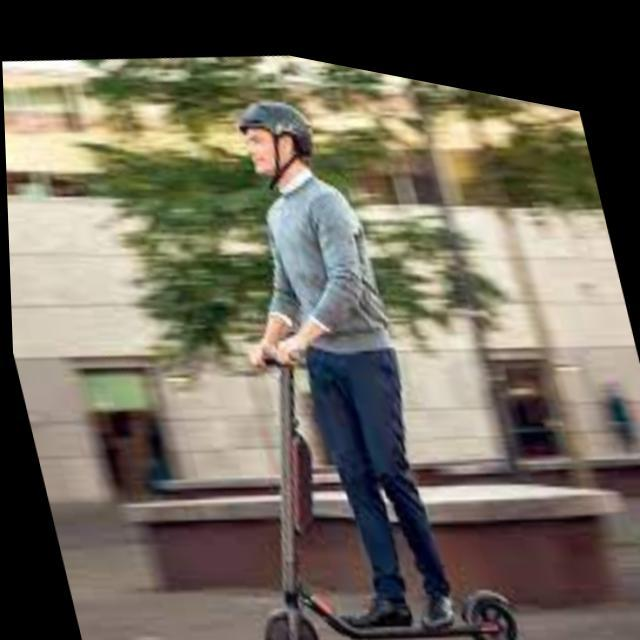Helmet: (236, 95, 322, 185)
